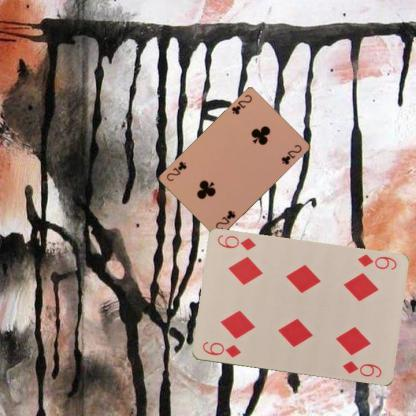2c: (213, 208, 237, 232), (229, 93, 253, 116)
6d: (199, 340, 242, 360), (355, 252, 398, 272)
